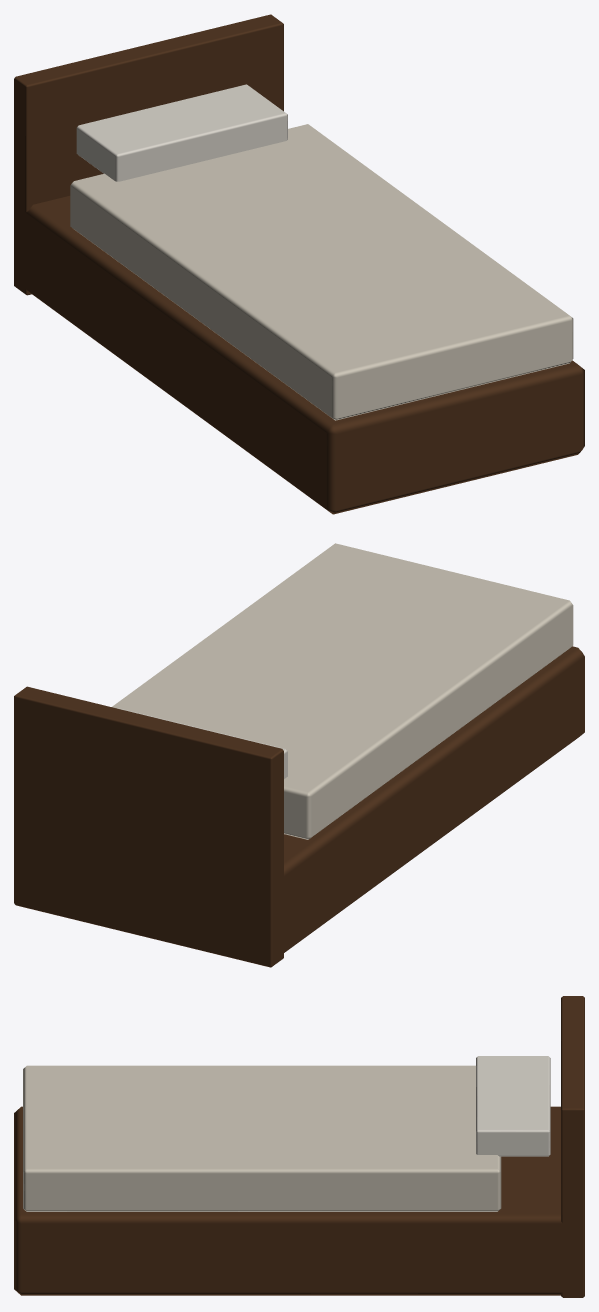
File: bed.0ed690fa.glb
The picture shows the model from 3 angles, top to bottom: view 1: azimuth 30°, elevation 25°; view 2: azimuth 150°, elevation 25°; view 3: azimuth 270°, elevation 25°; orthographic projection. The views are drawn at different scales.
Parts seen in each view (by area): view 1: body; view 2: body; view 3: body.
Boxes of the visible parts, left/top/right/bottom form: body: left=14, top=14, right=584, bottom=514; body: left=14, top=543, right=584, bottom=967; body: left=14, top=996, right=584, bottom=1297.
Size of the model in its own units: 0.9 by 0.7 by 1.91.
